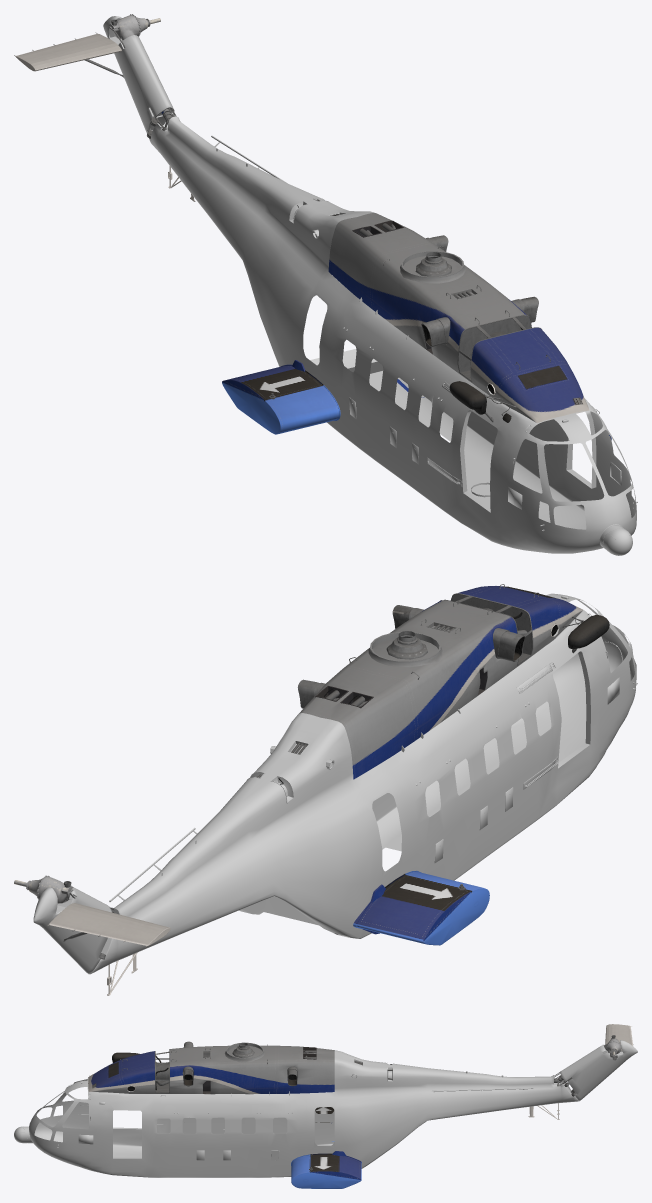
Rendered from AC313_feijiwai_1.FBX.
The picture shows the model from 3 angles, top to bottom: view 1: azimuth 30°, elevation 25°; view 2: azimuth 150°, elevation 25°; view 3: azimuth 270°, elevation 25°; orthographic projection. The views are drawn at different scales.
Parts seen in each view (by area): view 1: AC313_feijiwai_1; view 2: AC313_feijiwai_1; view 3: AC313_feijiwai_1.
Boxes of the visible parts, <box> form: AC313_feijiwai_1: <box>14,14,637,555</box>; AC313_feijiwai_1: <box>14,584,637,995</box>; AC313_feijiwai_1: <box>14,1024,637,1188</box>.
Size of the model in its own units: 5.27 by 4.76 by 21.08.
